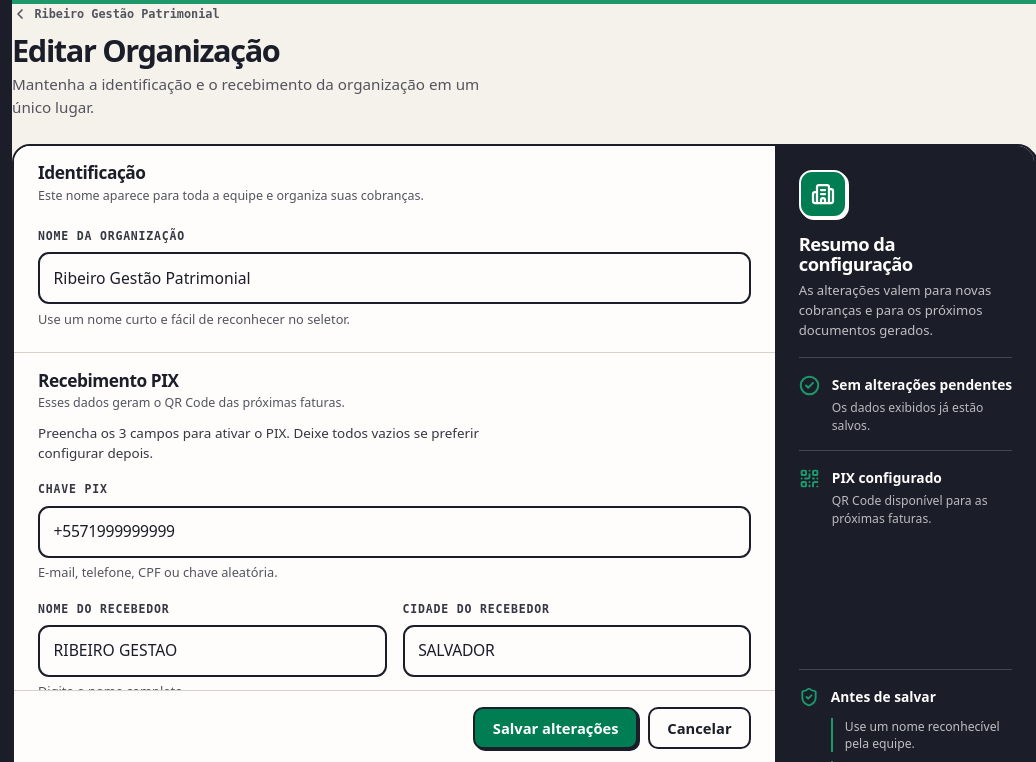
keeps the summary in sync with the unsaved draft
The image size is (1036, 762).
Expected: the text "Sem alterações pendentes" is shown, left=832, top=374, right=1012, bottom=395
Clear the field labelled "Chave PIX". click: (395, 532)
box: left=38, top=506, right=751, bottom=558
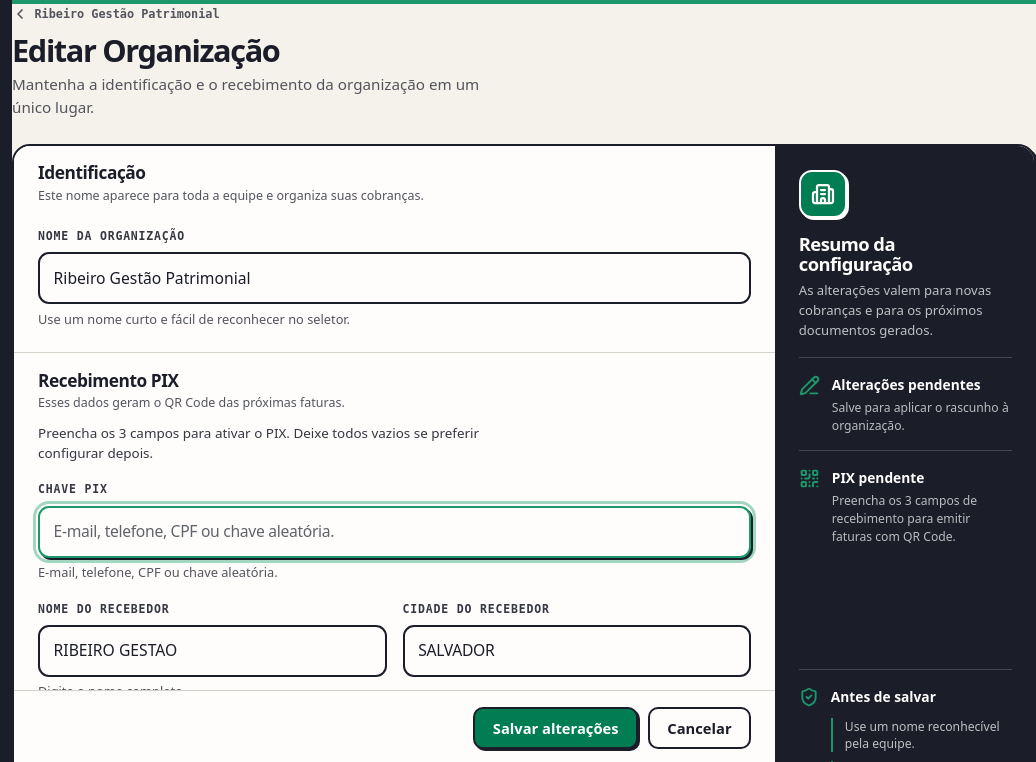
Expected: the text "Alterações pendentes" is shown, left=832, top=374, right=981, bottom=394
Expected: the text "PIX pendente" is shown, left=832, top=468, right=924, bottom=487
Type "+5571999999999" into the field labelled "Chave PIX". click: (395, 532)
box: left=38, top=506, right=751, bottom=558
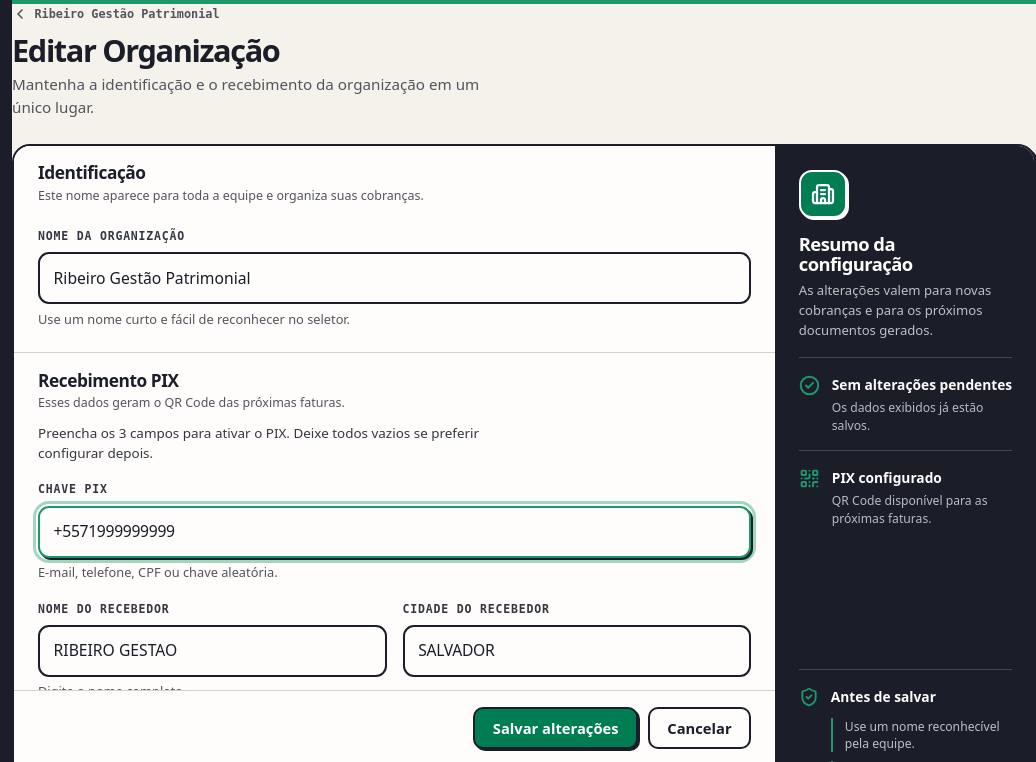
Expected: the text "Sem alterações pendentes" is shown, left=832, top=374, right=1012, bottom=395
Expected: the text "PIX configurado" is shown, left=832, top=468, right=942, bottom=487
